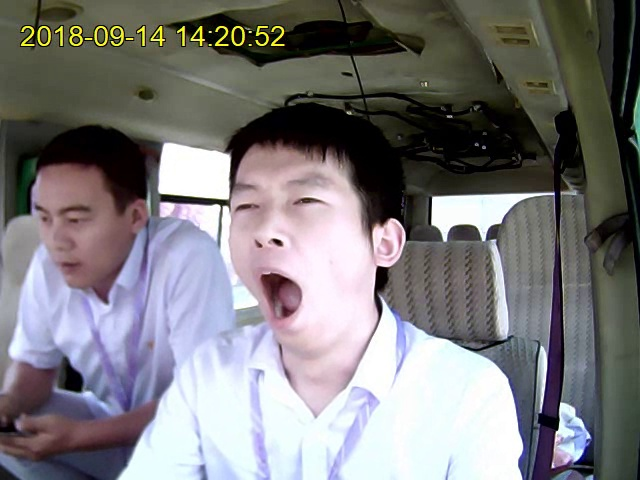open_mouth: (254, 265, 307, 331)
